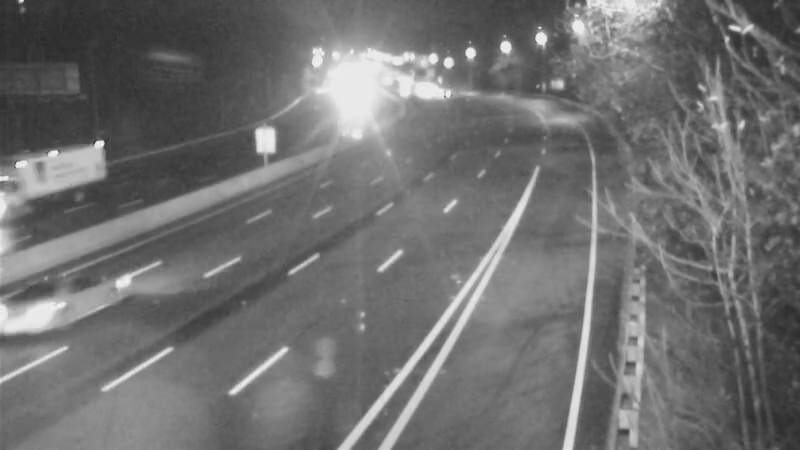vehicle: (31, 252, 111, 332), (1, 146, 75, 226), (417, 70, 467, 120)
